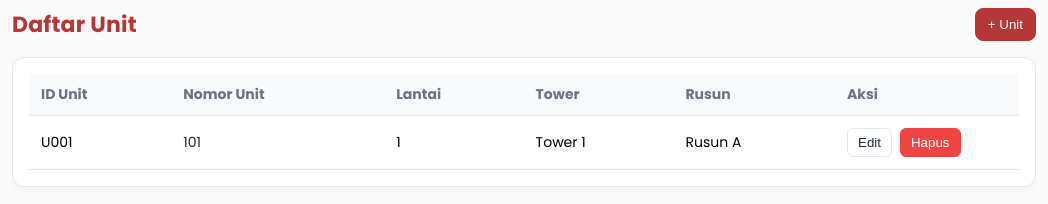
Test: UnitList › menghapus unit ketika deleteUnit sukses (admin)
expect the text "U001" is shown: met, box [29, 116, 171, 170]
Click the button "Hapus".
click(930, 142)  # box [900, 128, 960, 157]
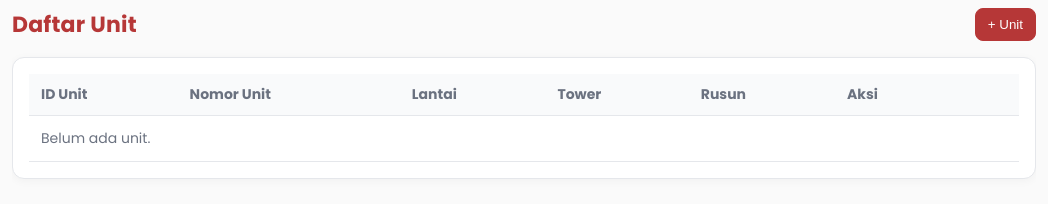
expect the text "Belum ada unit." is shown: met, box [29, 116, 1019, 162]
